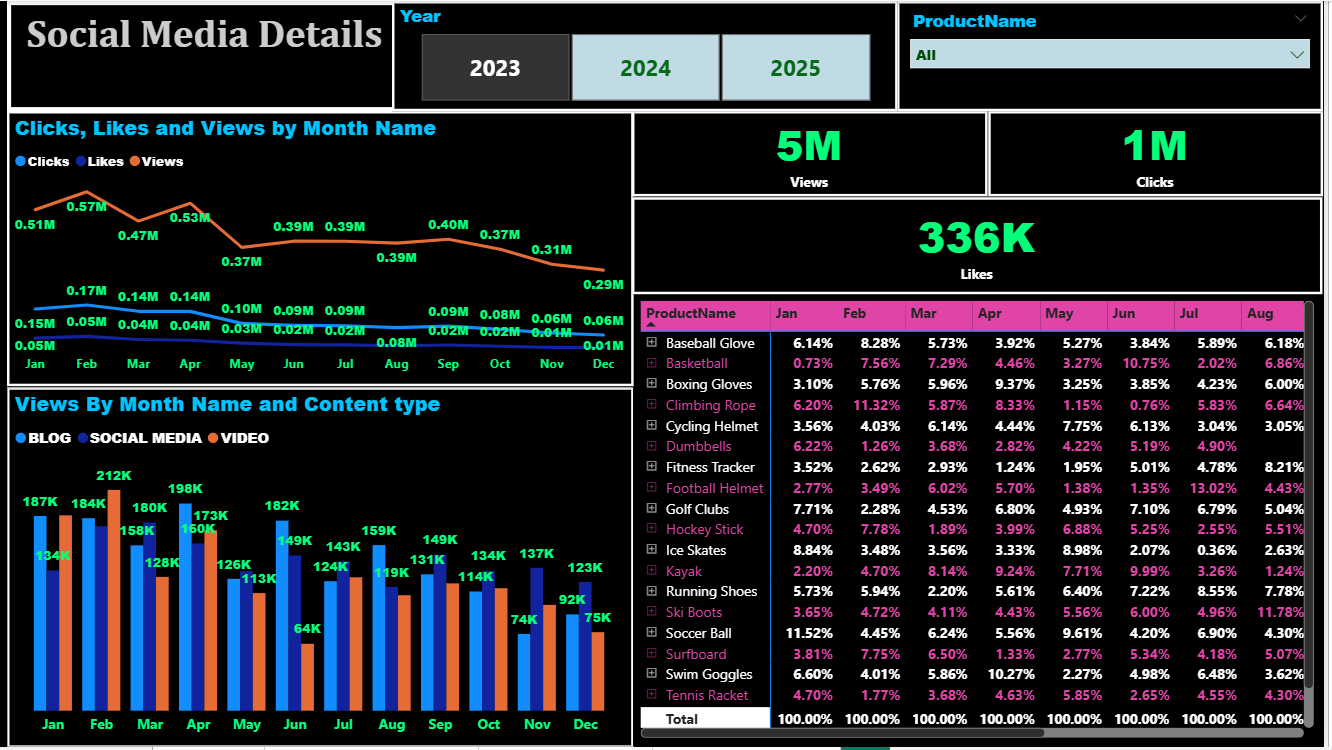

The page's visual inventory and layout, read from the dashboard file:
{"tool":"powerbi","page":{"name":"Social Media Details","canvas":[1280,720],"ordinal":3},"visuals":[{"type":"clusteredColumnChart","title":"Views By Month Name and Content type","fields":{"Category":["Calendar.MonthNameShort"],"Y":["Calculations.Views"],"Series":["fact_engagement_data.ContentType"]},"box":[10.1,372.2,604.5,347.7],"z":0},{"type":"pivotTable","fields":{"Rows":["dim_products.ProductName","fact_engagement_data.ContentType"],"Columns":["Calendar.MonthNameShort"],"Values":["Calculations.Views"]},"box":[614.6,282.8,665.1,437.2],"z":1000},{"type":"textbox","box":[10.1,0,380.9,106.8],"z":2000},{"type":"lineChart","title":"Clicks, Likes and Views by Month Name","fields":{"Y":["Calculations.Clicks","Calculations.Likes","Calculations.Views"],"Category":["Calendar.MonthNameShort"]},"box":[10.1,106.8,604.5,265.5],"z":3000},{"type":"card","fields":{"Values":["Calculations.Views"]},"box":[613.2,106.8,343.4,82.2],"z":4000},{"type":"card","fields":{"Values":["Calculations.Clicks"]},"box":[956.6,106.8,323.2,82.2],"z":5000},{"type":"card","fields":{"Values":["Calculations.Likes"]},"box":[613.2,189,666.6,93.8],"z":6000},{"type":"slicer","fields":{"Values":["dim_products.ProductName"]},"box":[868.5,0,411.2,106.8],"z":7000},{"type":"slicer","title":"Year","fields":{"Values":["Calendar.Year"]},"box":[380.9,0,487.7,106.8],"z":8000}]}

Visuals, with their boxes in screenshot pixels (x1, y1, x2, y2), scaled from the page's 1280x720 canvas onto the 1332x750 screenshot:
"Views By Month Name and Content type" clusteredColumnChart: rect(11, 388, 640, 749)
pivotTable - dim_products.ProductName x fact_engagement_data.ContentType: rect(640, 295, 1331, 749)
textbox: rect(11, 0, 407, 111)
"Clicks, Likes and Views by Month Name" lineChart: rect(11, 111, 640, 388)
card - Calculations.Views: rect(638, 111, 995, 197)
card - Calculations.Clicks: rect(995, 111, 1331, 197)
card - Calculations.Likes: rect(638, 197, 1331, 295)
slicer - dim_products.ProductName: rect(904, 0, 1331, 111)
"Year" slicer: rect(396, 0, 904, 111)
